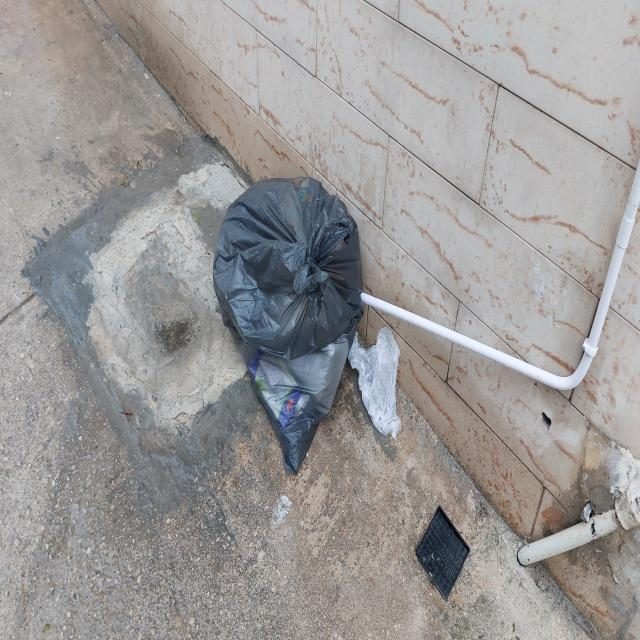Mixed Waste -Black Bag-: (214, 177, 364, 479)
Other: (348, 332, 402, 441)
